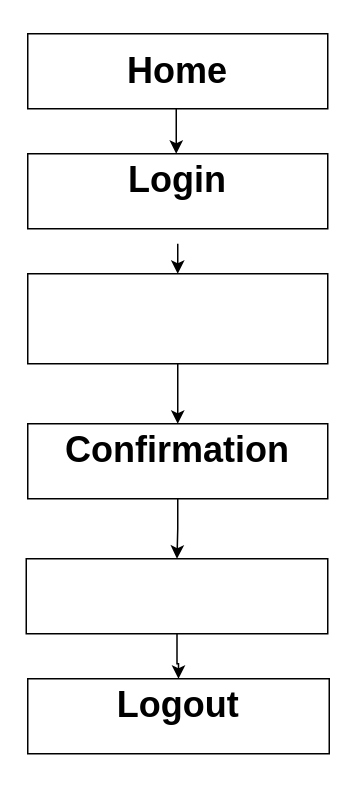
The diagram is 356 pixels wide and 798 high, and some of its shapes have lost their labels. The shapes that lost their labels are listed below. From the top down, each one's centre as x and y in pixels, then its label:
At pixel 177 318: "Appointment Form".
At pixel 176 595: "History".
